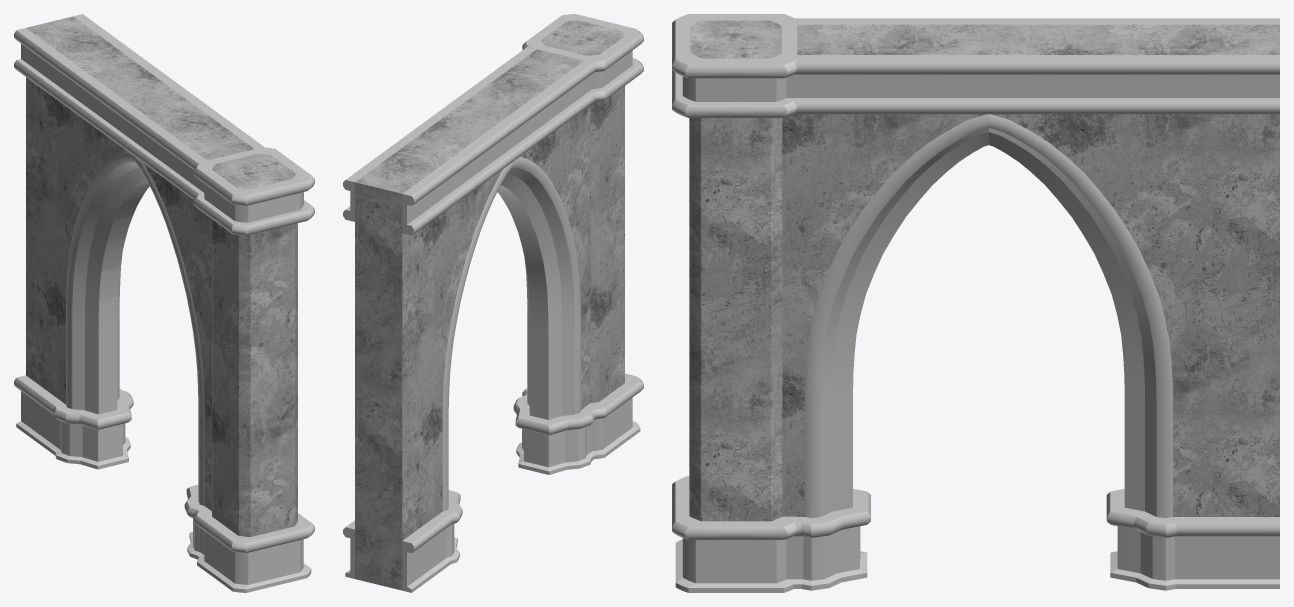
File: SM_Wallkit_Gate_Proc_01a.fbx
3 views of the same model, side by side, from view 1: azimuth 30°, elevation 25°; view 2: azimuth 150°, elevation 25°; view 3: azimuth 270°, elevation 25° (orthographic). The views are drawn at different scales.
Parts seen in each view (by area): view 1: SM_Wallkit_Gate_Proc_01a_LOD0; view 2: SM_Wallkit_Gate_Proc_01a_LOD0; view 3: SM_Wallkit_Gate_Proc_01a_LOD0.
Boxes of the visible parts, box(x1,y1,x2,y2) form: SM_Wallkit_Gate_Proc_01a_LOD0: box(14, 14, 314, 592); SM_Wallkit_Gate_Proc_01a_LOD0: box(343, 14, 643, 592); SM_Wallkit_Gate_Proc_01a_LOD0: box(672, 14, 1279, 592).
Size of the model in its own units: 175 by 835 by 801.
